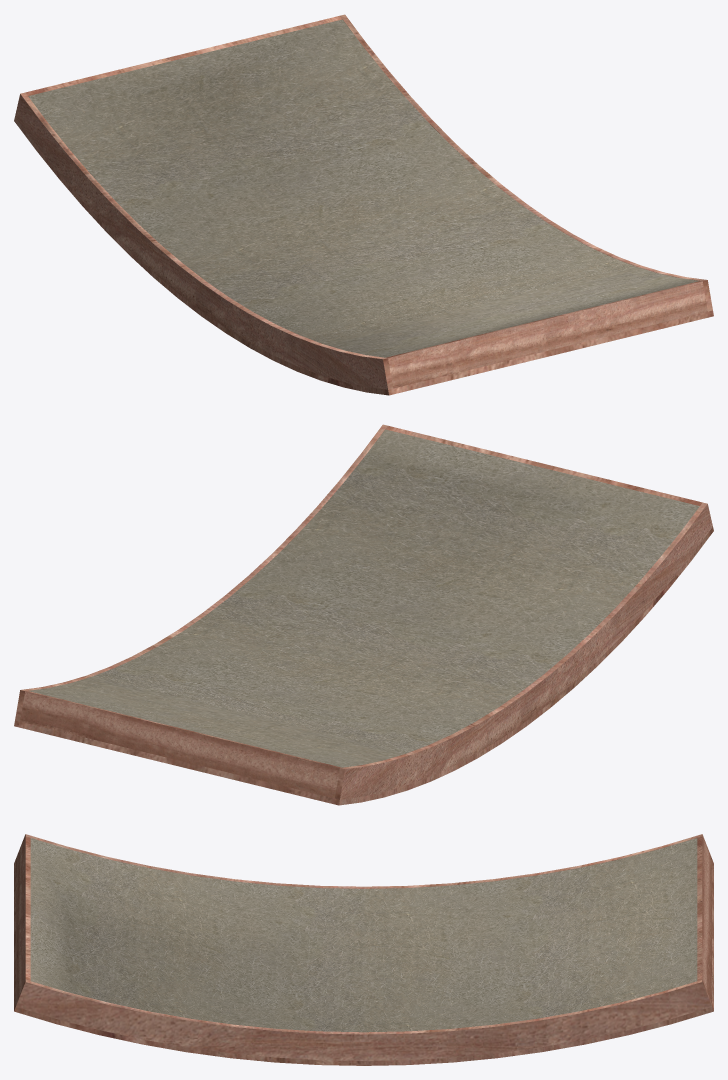
The model's file is WavePM.glb.
The picture shows the model from 3 angles, top to bottom: view 1: azimuth 30°, elevation 25°; view 2: azimuth 150°, elevation 25°; view 3: azimuth 270°, elevation 25°; orthographic projection. The views are drawn at different scales.
Parts seen in each view (by area): view 1: Insulation, WavePM.001; view 2: Insulation, WavePM.001; view 3: Insulation, WavePM.001.
Boxes of the visible parts, x1=… form: Insulation: x1=28, y1=19, x2=698, y2=357; WavePM.001: x1=14, y1=14, x2=713, y2=395; Insulation: x1=29, y1=429, x2=699, y2=767; WavePM.001: x1=14, y1=424, x2=713, y2=805; Insulation: x1=30, y1=838, x2=697, y2=1032; WavePM.001: x1=14, y1=834, x2=713, y2=1065.
Bounding box in the file's own units: 48 × 12.72 × 96.
Materials: 2 (2 with a texture image).
